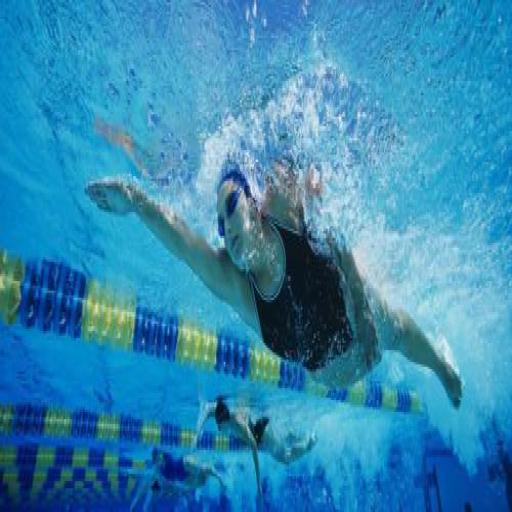swimming: (84, 143, 465, 414)
